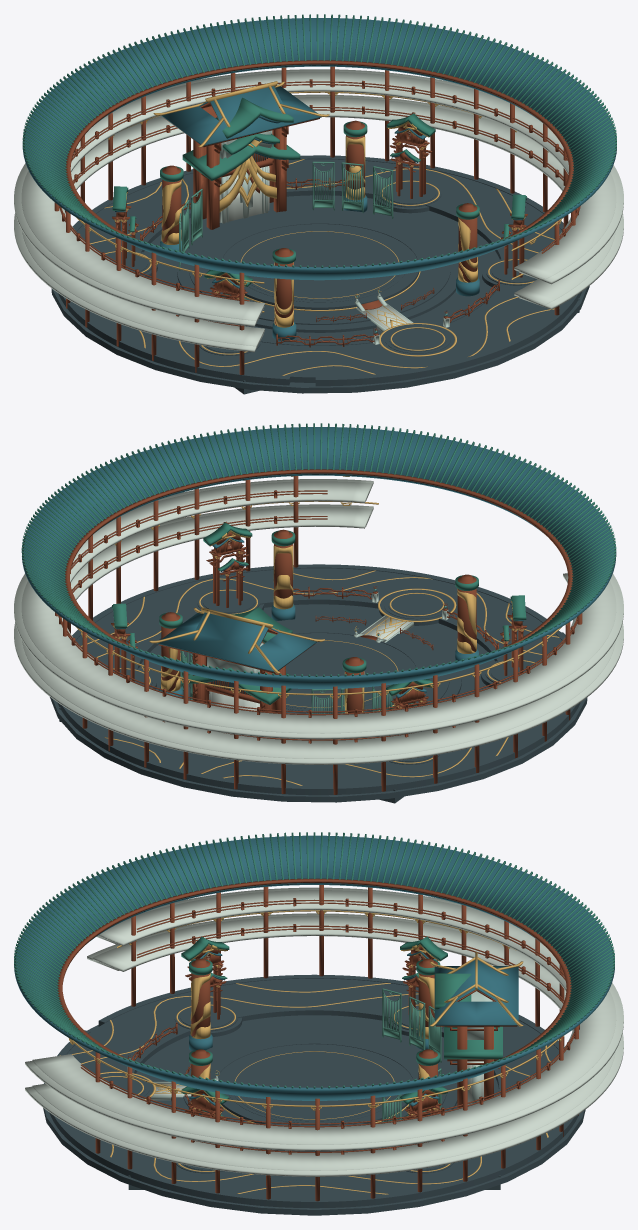
The model's file is qinglv-observatory.glb.
3 views of the same model, one above another, from view 1: azimuth 30°, elevation 25°; view 2: azimuth 150°, elevation 25°; view 3: azimuth 270°, elevation 25° (orthographic).
Visible parts, largest first — view 1: 青绿观星楼 · 暗青灰石板 · 静态建筑, 青绿观星楼 · 月白石 · 静态建筑, 青绿观星楼 · 石青瓦 · 静态建筑, 青绿观星楼 · 石绿瓦 · 静态建筑, 青绿观星楼 · 赭红木构 · 静态建筑, 青绿观星楼 · 温润鎏金 · 静态建筑, 青绿观星楼 · 青瓷瓦当 · 静态建筑, 青绿观星楼 · 青瓷石台 · 静态建筑; view 2: 青绿观星楼 · 月白石 · 静态建筑, 青绿观星楼 · 暗青灰石板 · 静态建筑, 青绿观星楼 · 石青瓦 · 静态建筑, 青绿观星楼 · 石绿瓦 · 静态建筑, 青绿观星楼 · 赭红木构 · 静态建筑, 青绿观星楼 · 温润鎏金 · 静态建筑, 青绿观星楼 · 青瓷瓦当 · 静态建筑, 青绿观星楼 · 青瓷石台 · 静态建筑; view 3: 青绿观星楼 · 月白石 · 静态建筑, 青绿观星楼 · 暗青灰石板 · 静态建筑, 青绿观星楼 · 石青瓦 · 静态建筑, 青绿观星楼 · 石绿瓦 · 静态建筑, 青绿观星楼 · 赭红木构 · 静态建筑, 青绿观星楼 · 温润鎏金 · 静态建筑, 青绿观星楼 · 青瓷瓦当 · 静态建筑, 青绿观星楼 · 青瓷石台 · 静态建筑.
Part boxes in pixels (box(x1,y1,x2,y2)): 青绿观星楼 · 暗青灰石板 · 静态建筑: box(51, 153, 589, 394); 青绿观星楼 · 月白石 · 静态建筑: box(14, 69, 623, 352); 青绿观星楼 · 石青瓦 · 静态建筑: box(22, 18, 616, 340); 青绿观星楼 · 石绿瓦 · 静态建筑: box(22, 14, 616, 300); 青绿观星楼 · 赭红木构 · 静态建筑: box(54, 60, 580, 374); 青绿观星楼 · 温润鎏金 · 静态建筑: box(69, 81, 562, 375); 青绿观星楼 · 青瓷瓦当 · 静态建筑: box(179, 161, 393, 270); 青绿观星楼 · 青瓷石台 · 静态建筑: box(216, 117, 449, 344); 青绿观星楼 · 月白石 · 静态建筑: box(14, 479, 623, 764); 青绿观星楼 · 暗青灰石板 · 静态建筑: box(50, 564, 587, 803); 青绿观星楼 · 石青瓦 · 静态建筑: box(22, 427, 616, 706); 青绿观星楼 · 石绿瓦 · 静态建筑: box(21, 423, 616, 709); 青绿观星楼 · 赭红木构 · 静态建筑: box(55, 469, 582, 794); 青绿观星楼 · 温润鎏金 · 静态建筑: box(76, 476, 567, 785); 青绿观星楼 · 青瓷瓦当 · 静态建筑: box(180, 650, 392, 713); 青绿观星楼 · 青瓷石台 · 静态建筑: box(207, 592, 448, 699); 青绿观星楼 · 月白石 · 静态建筑: box(25, 887, 623, 1176); 青绿观星楼 · 暗青灰石板 · 静态建筑: box(43, 974, 585, 1215); 青绿观星楼 · 石青瓦 · 静态建筑: box(14, 835, 614, 1114); 青绿观星楼 · 石绿瓦 · 静态建筑: box(14, 832, 614, 1119); 青绿观星楼 · 赭红木构 · 静态建筑: box(57, 878, 579, 1201); 青绿观星楼 · 温润鎏金 · 静态建筑: box(59, 910, 564, 1194); 青绿观星楼 · 青瓷瓦当 · 静态建筑: box(382, 988, 441, 1122); 青绿观星楼 · 青瓷石台 · 静态建筑: box(127, 991, 492, 1103).
Bounding box in the file's own units: 43.51 × 11.51 × 43.02.
